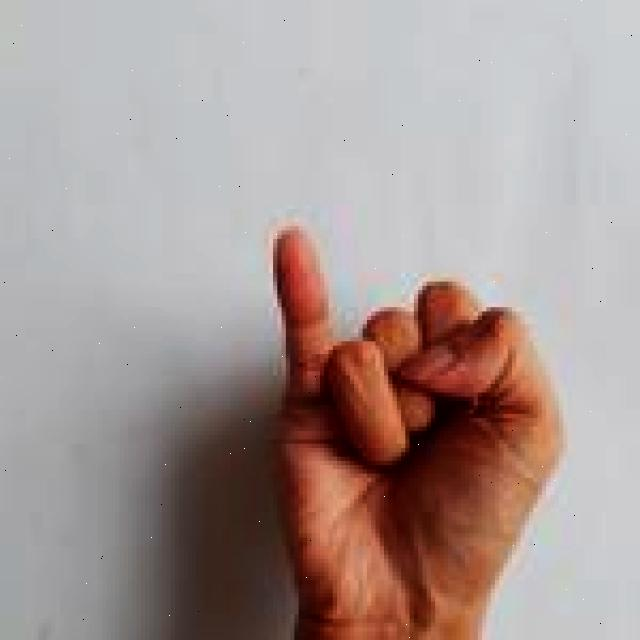I: (266, 219, 573, 640)
